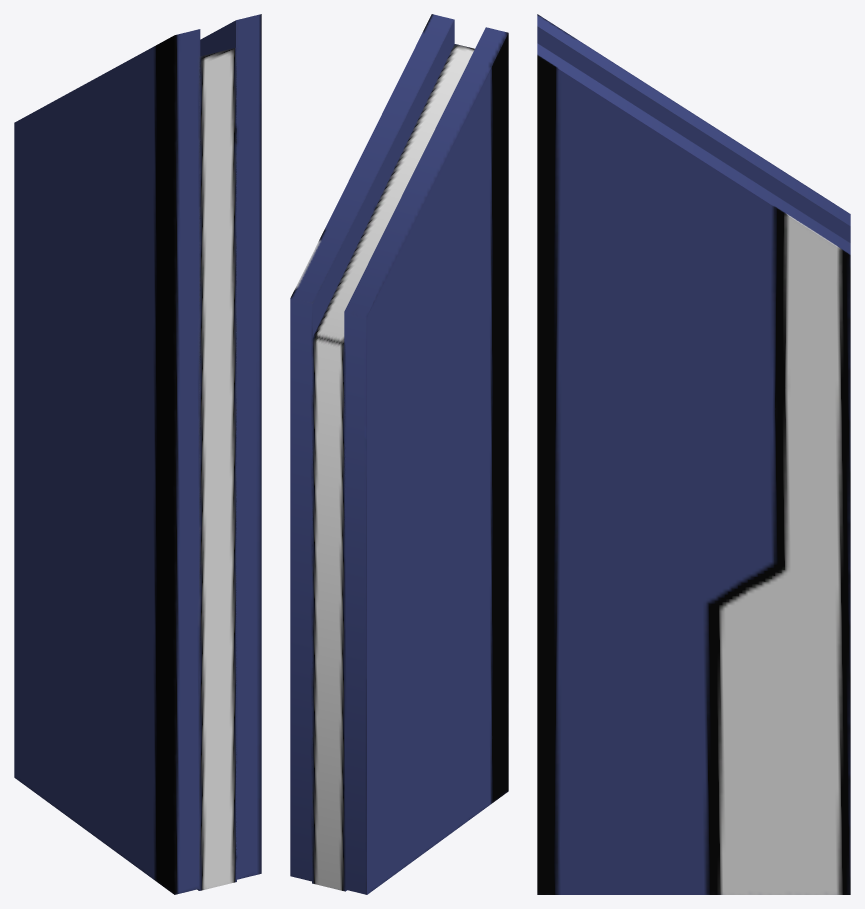
The model's file is buil_4.fbx.
The picture shows the model from 3 angles, left to right: view 1: azimuth 30°, elevation 25°; view 2: azimuth 150°, elevation 25°; view 3: azimuth 270°, elevation 25°; orthographic projection. The views are drawn at different scales.
Visible parts, largest first — view 1: node_id5; view 2: node_id5; view 3: node_id5.
Part boxes in pixels (box(x1,y1,x2,y2)): node_id5: box(14, 14, 261, 894); node_id5: box(290, 14, 508, 894); node_id5: box(537, 14, 850, 894).
Size of the model in its own units: 0.0541 by 0.512 by 0.1726.
Materials: 1 (1 with a texture image).
